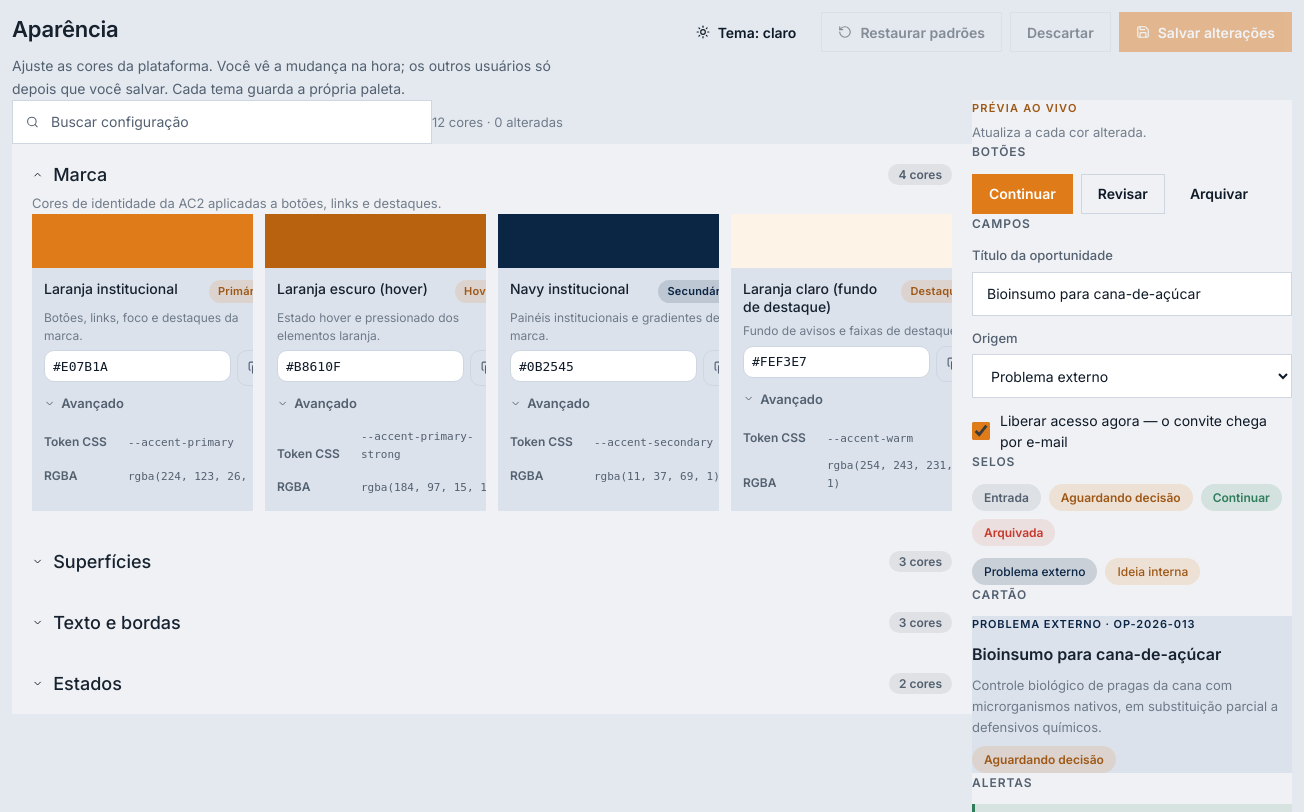
Test case: AppearanceSection › filtra as cores pela busca, ignorando acentos
Type "superficie" into the search field labelled "Buscar configuração". click: (222, 122)
box: [12,100,432,144]
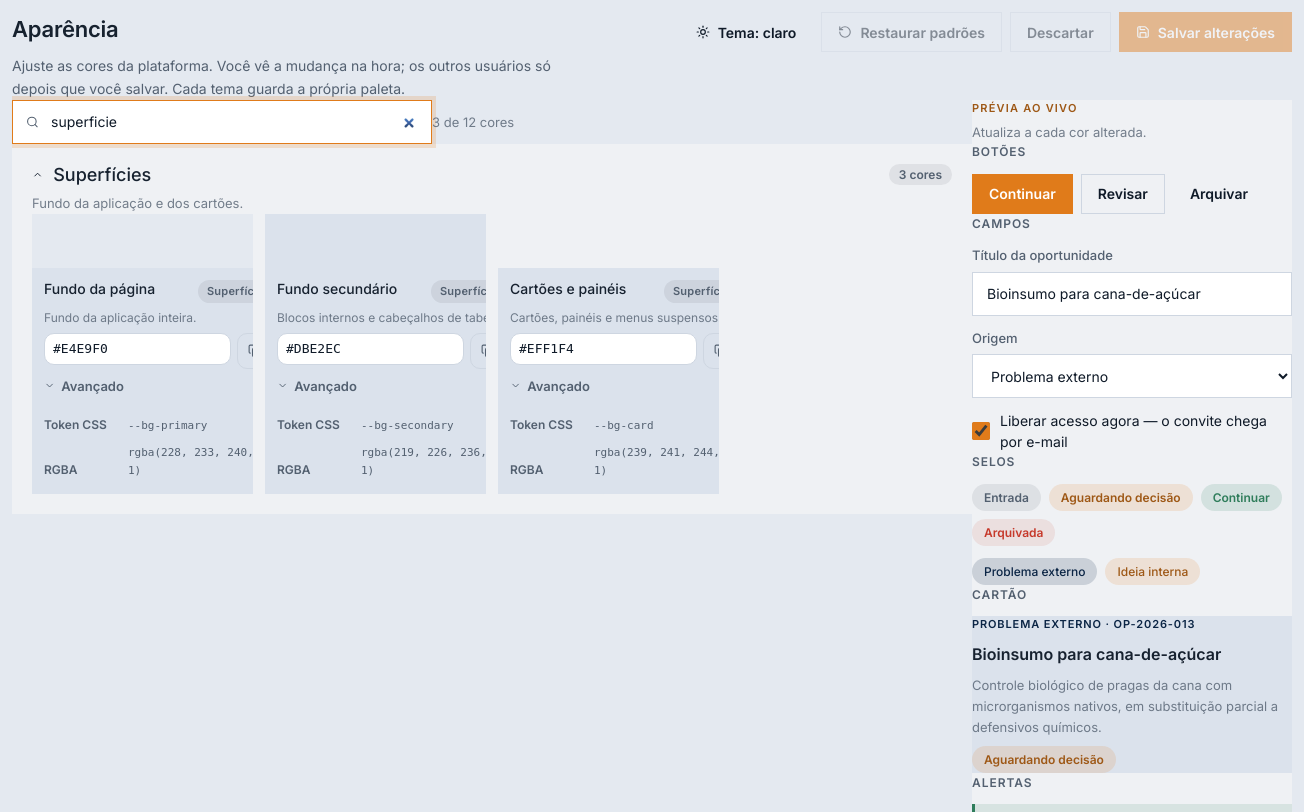
Check: the heading "Fundo da página" is shown, box [44,280,155,298]
Check: the text "3 de 12 cores" is shown, box [432,112,514,132]
